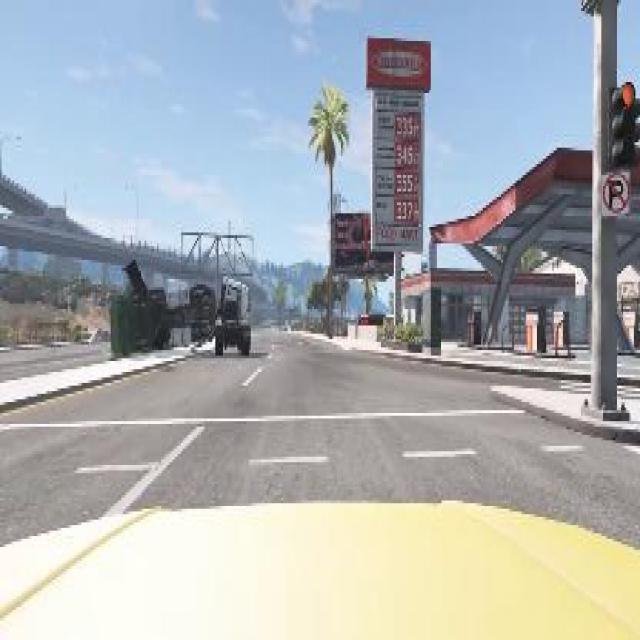accident: (104, 246, 256, 361)
